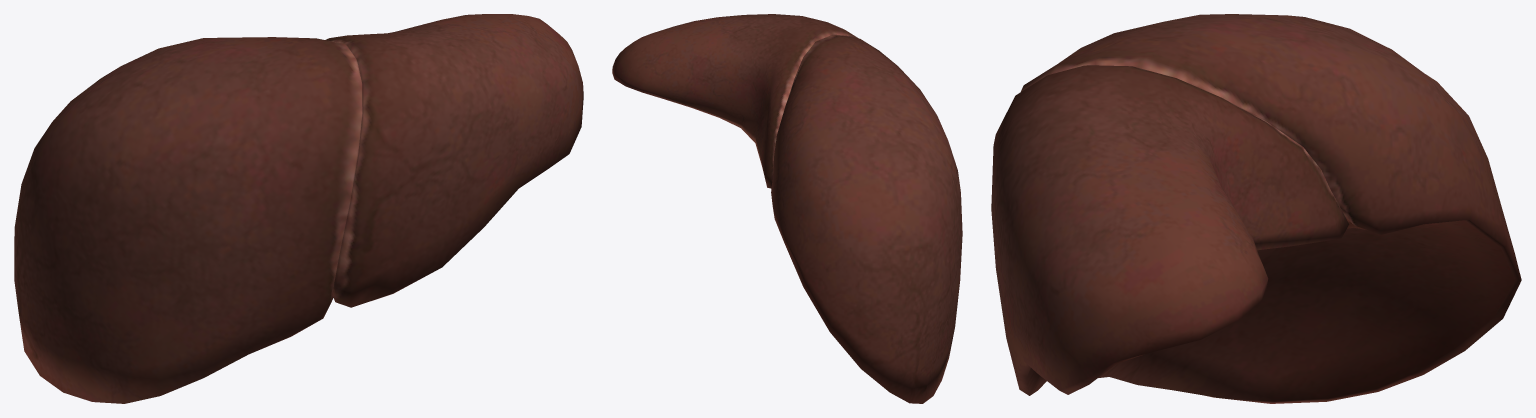
Rendered from FBX_Higado.fbx.
3 renders of one model, left to right at view 1: azimuth 30°, elevation 25°; view 2: azimuth 150°, elevation 25°; view 3: azimuth 270°, elevation 25°, orthographic. The views are drawn at different scales.
Visible parts, largest first — view 1: Higado_Anim; view 2: Higado_Anim; view 3: Higado_Anim.
Boxes of the visible parts, x1,y1,x2,y2 form: Higado_Anim: [14, 14, 583, 403]; Higado_Anim: [612, 14, 962, 403]; Higado_Anim: [991, 14, 1521, 403].
Bounding box in the file's own units: 17.6 × 12.52 × 12.32.
